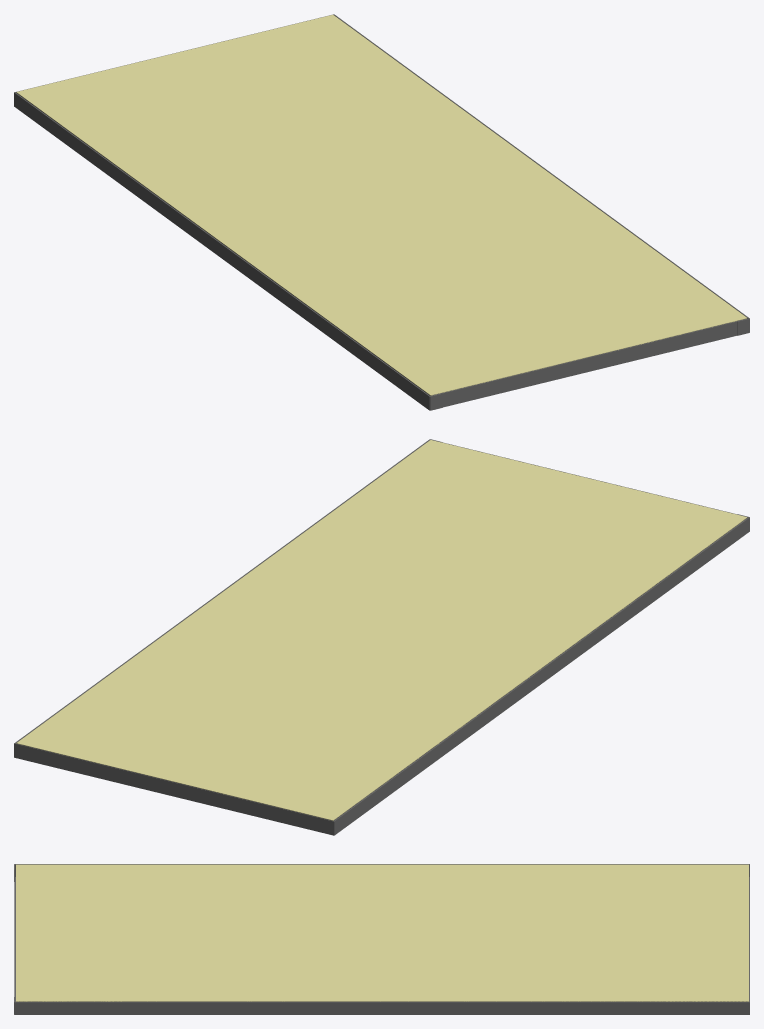
File: Full Panel Canopy.glb
The picture shows the model from 3 angles, top to bottom: view 1: azimuth 30°, elevation 25°; view 2: azimuth 150°, elevation 25°; view 3: azimuth 270°, elevation 25°; orthographic projection. The views are drawn at different scales.
Parts seen in each view (by area): view 1: toggle_back_panel.018, Full_Panel_Canopy; view 2: toggle_back_panel.018, Full_Panel_Canopy; view 3: toggle_back_panel.018, Full_Panel_Canopy.
Boxes of the visible parts, x1,y1,x2,y2 form: toggle_back_panel.018: [16, 15, 746, 395]; Full_Panel_Canopy: [14, 14, 749, 410]; toggle_back_panel.018: [16, 440, 747, 820]; Full_Panel_Canopy: [14, 439, 749, 835]; toggle_back_panel.018: [16, 864, 748, 1001]; Full_Panel_Canopy: [14, 864, 749, 1014].
Size of the model in its own units: 0.969 by 0.0423 by 2.18.
